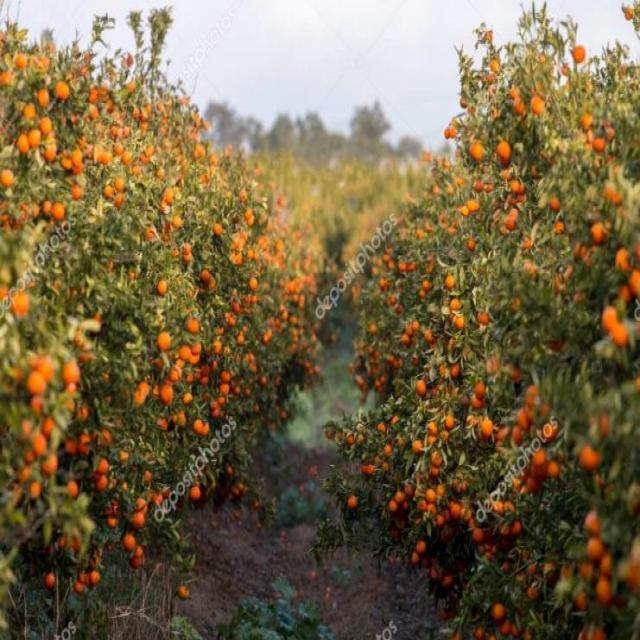row: (74, 346, 514, 640)
